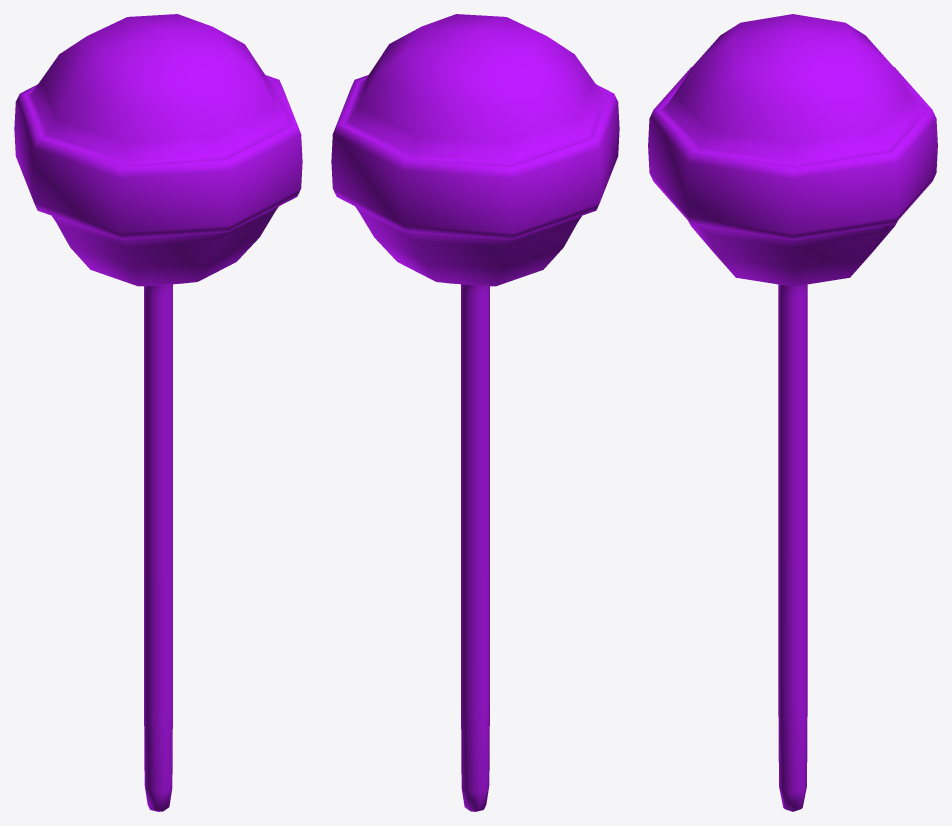
Rendered from Paleta_01.fbx.
3 views of the same model, side by side, from view 1: azimuth 30°, elevation 25°; view 2: azimuth 150°, elevation 25°; view 3: azimuth 270°, elevation 25° (orthographic).
Visible parts, largest first — view 1: Paleta_01; view 2: Paleta_01; view 3: Paleta_01.
Boxes of the visible parts, x1,y1,x2,y2 form: Paleta_01: (14,14,302,811); Paleta_01: (331,14,619,811); Paleta_01: (648,14,937,811).
Size of the model in its own units: 111 by 330 by 111.
